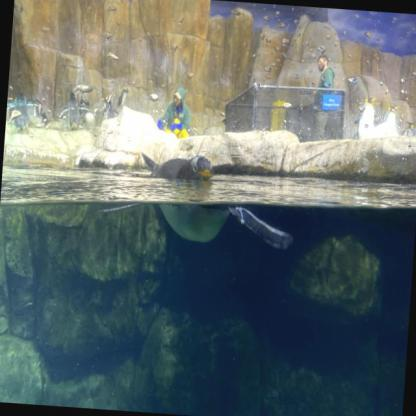penguin: (98, 149, 300, 256), (5, 91, 42, 137), (56, 88, 92, 134), (350, 93, 378, 144), (381, 102, 402, 140), (92, 94, 114, 124), (115, 86, 130, 112), (400, 118, 416, 141)
